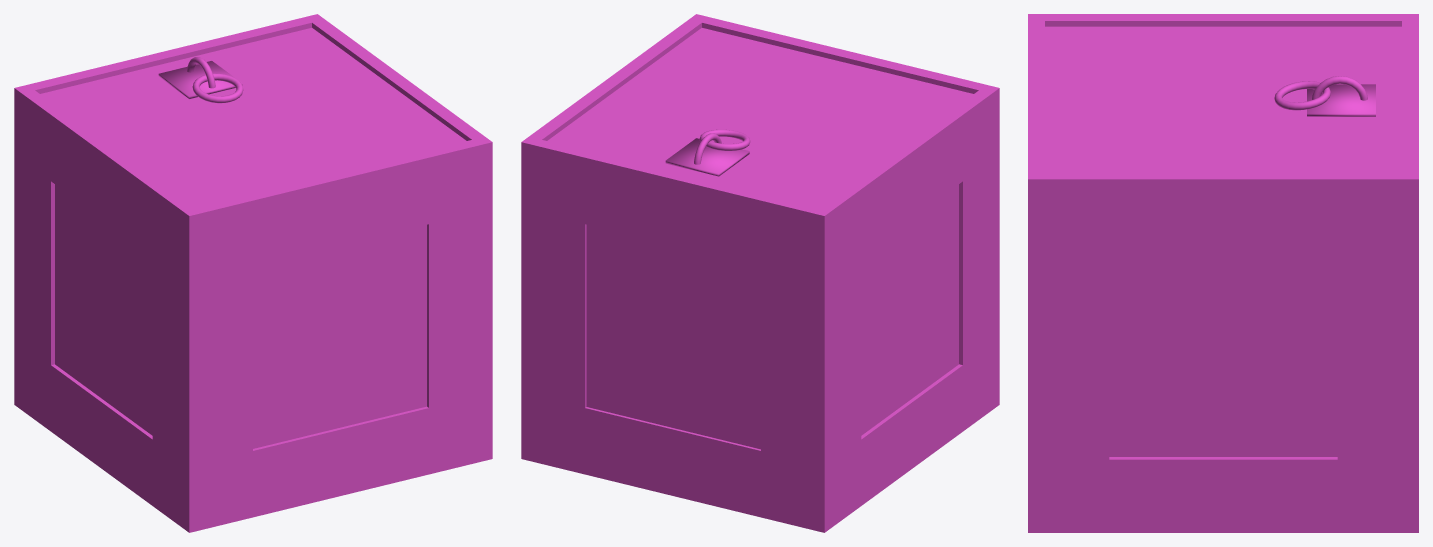
The model's file is Wooden_Box.fbx.
3 views of the same model, side by side, from view 1: azimuth 30°, elevation 25°; view 2: azimuth 150°, elevation 25°; view 3: azimuth 270°, elevation 25° (orthographic). The views are drawn at different scales.
Visible parts, largest first — view 1: Wooden_Box_2; view 2: Wooden_Box_2; view 3: Wooden_Box_2.
Part boxes in pixels (bbox=[...]): Wooden_Box_2: bbox=[14, 14, 492, 532]; Wooden_Box_2: bbox=[521, 14, 999, 532]; Wooden_Box_2: bbox=[1028, 14, 1418, 532].
Bounding box in the file's own units: 0.7879 × 0.8318 × 0.7879.
